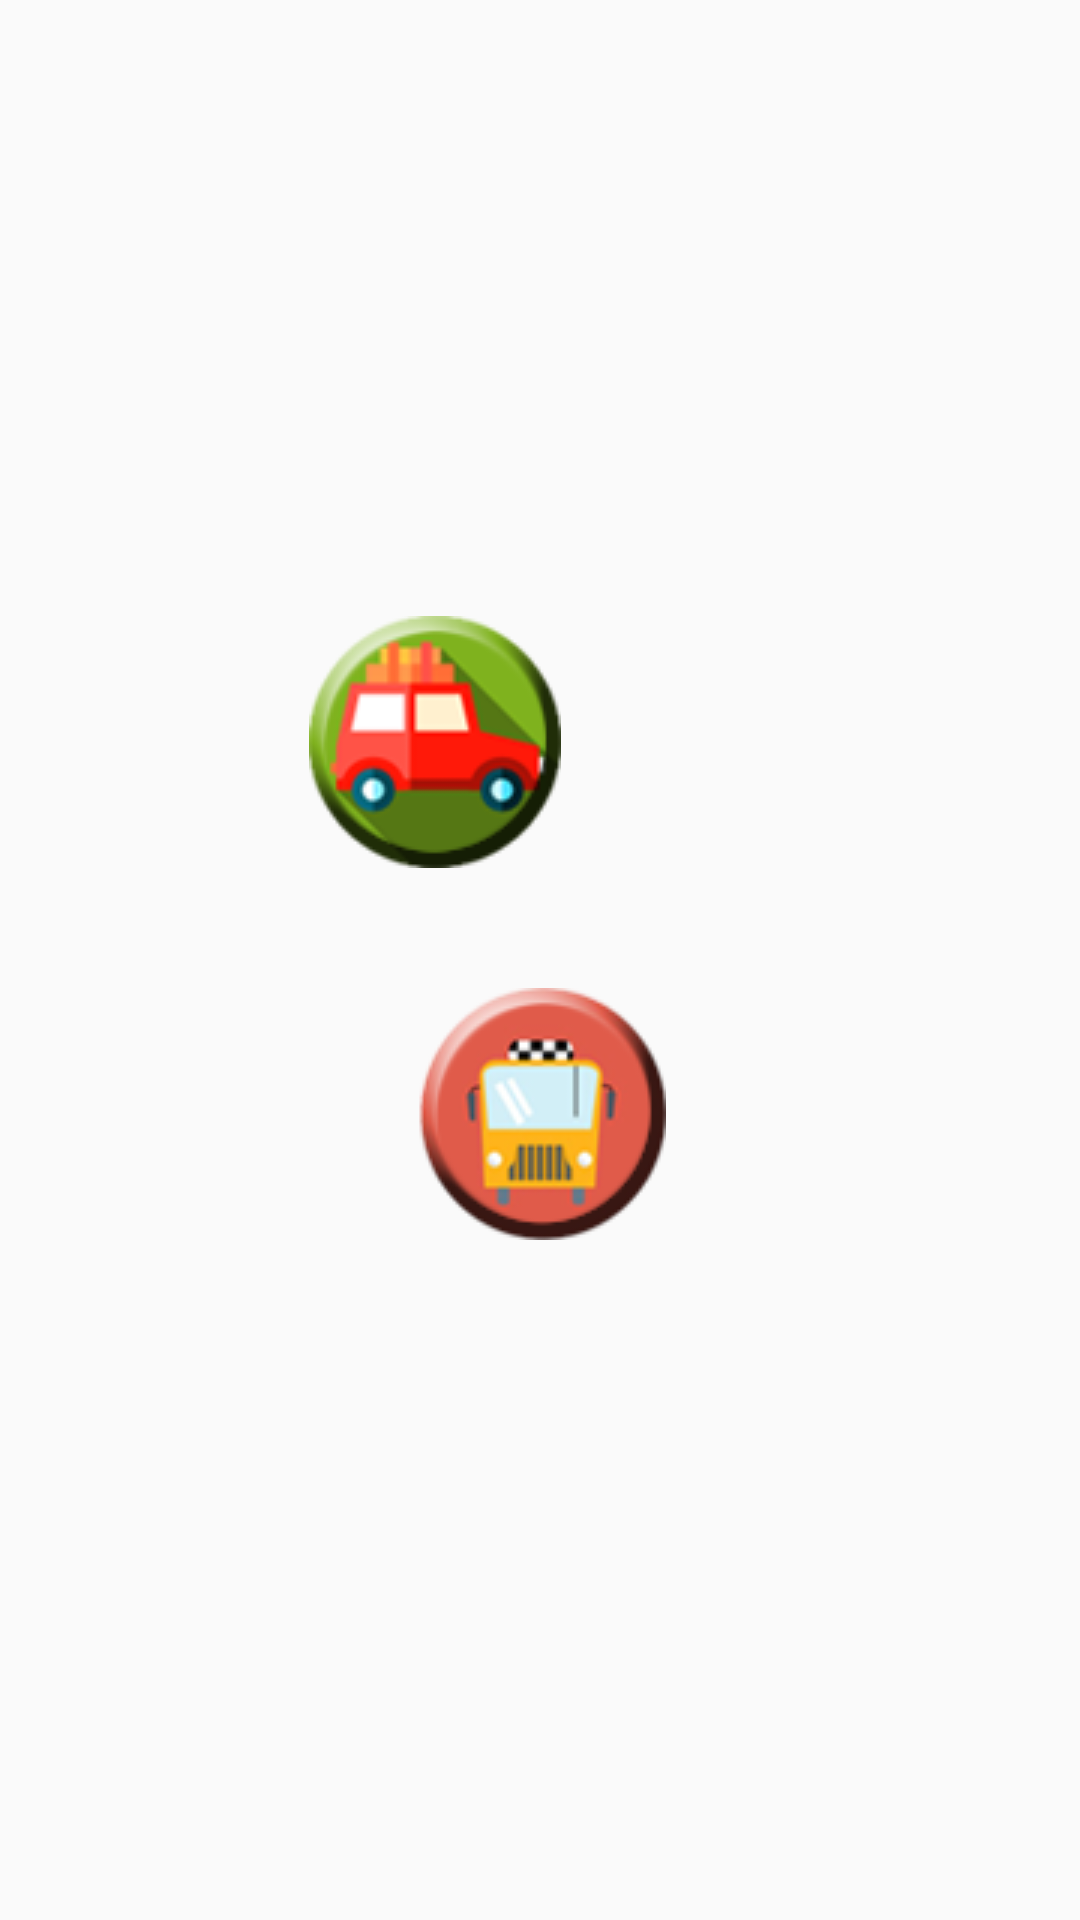

Icon click points for this 1080w x 1920h phone screenshot, format point (x, y):
car: point (435, 742)
